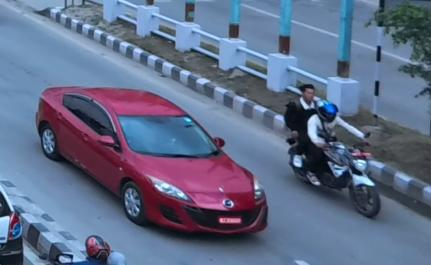bike: (291, 128, 383, 219)
car: (32, 67, 273, 244)
